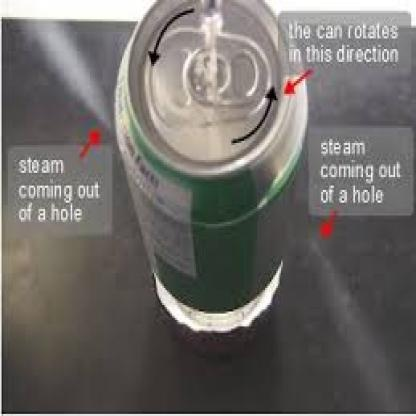trash: (115, 0, 308, 331)
